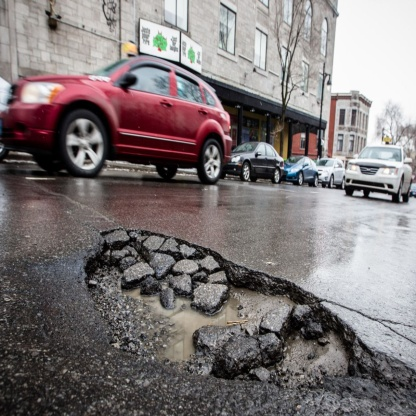pothole: (72, 217, 407, 398)
